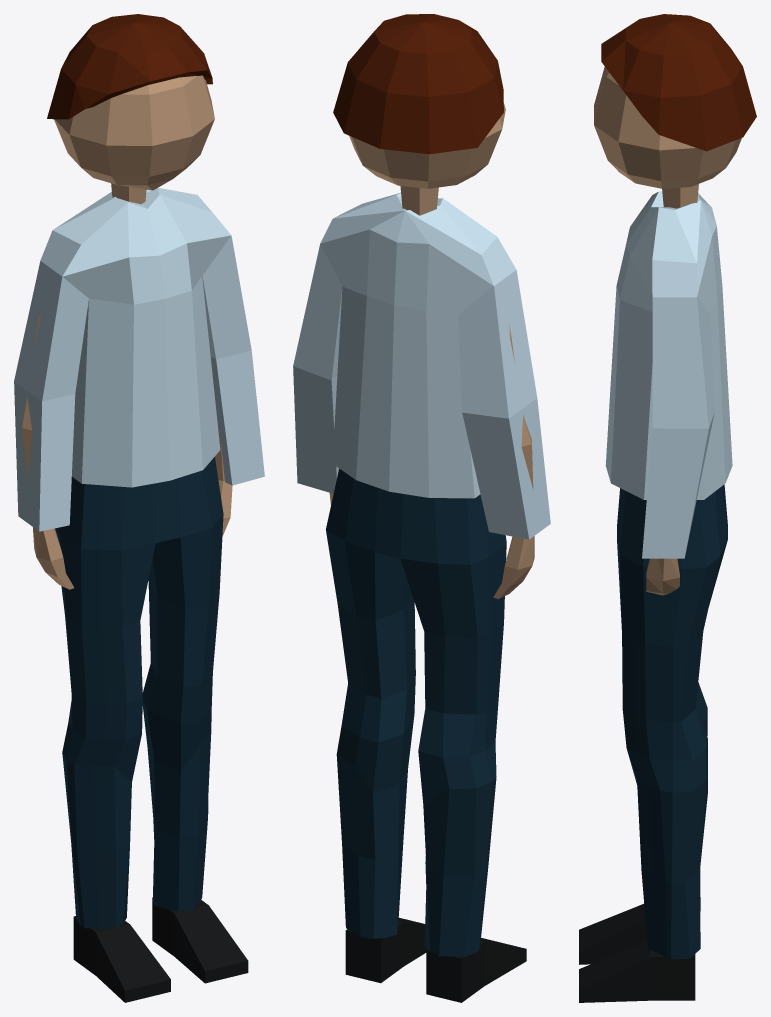
File: Person2.FBX
3 renders of one model, left to right at view 1: azimuth 30°, elevation 25°; view 2: azimuth 150°, elevation 25°; view 3: azimuth 270°, elevation 25°, orthographic. The views are drawn at different scales.
Visible parts, largest first — view 1: Box005, Box006, Sphere003, Sphere004, Box007, Box008, Cylinder005; view 2: Box006, Box005, Sphere004, Sphere003, Box007, Box008, Cylinder005, Cylinder004; view 3: Box005, Box006, Sphere004, Sphere003, Box008, Box007, Cylinder005, Cylinder004.
Boxes of the visible parts, bbox=[...] form: Box005: bbox=[14, 187, 264, 531]; Box006: bbox=[55, 457, 223, 929]; Sphere003: bbox=[54, 75, 214, 190]; Sphere004: bbox=[47, 14, 212, 119]; Box007: bbox=[73, 916, 170, 1002]; Box008: bbox=[152, 897, 248, 983]; Cylinder005: bbox=[22, 310, 232, 589]; Box006: bbox=[326, 469, 506, 956]; Box005: bbox=[293, 192, 550, 539]; Sphere004: bbox=[333, 14, 503, 154]; Sphere003: bbox=[349, 103, 505, 188]; Box007: bbox=[426, 938, 526, 1002]; Box008: bbox=[345, 917, 427, 983]; Cylinder005: bbox=[329, 325, 534, 599]; Cylinder004: bbox=[400, 186, 438, 215]; Box005: bbox=[605, 191, 732, 558]; Box006: bbox=[617, 484, 727, 959]; Sphere004: bbox=[601, 14, 756, 151]; Sphere003: bbox=[594, 66, 741, 188]; Box008: bbox=[579, 941, 695, 1002]; Box007: bbox=[579, 904, 647, 964]; Cylinder005: bbox=[646, 558, 679, 595]; Cylinder004: bbox=[662, 184, 698, 208].
Bounding box in the file's own units: 0.9477 × 0.6391 × 3.75.
